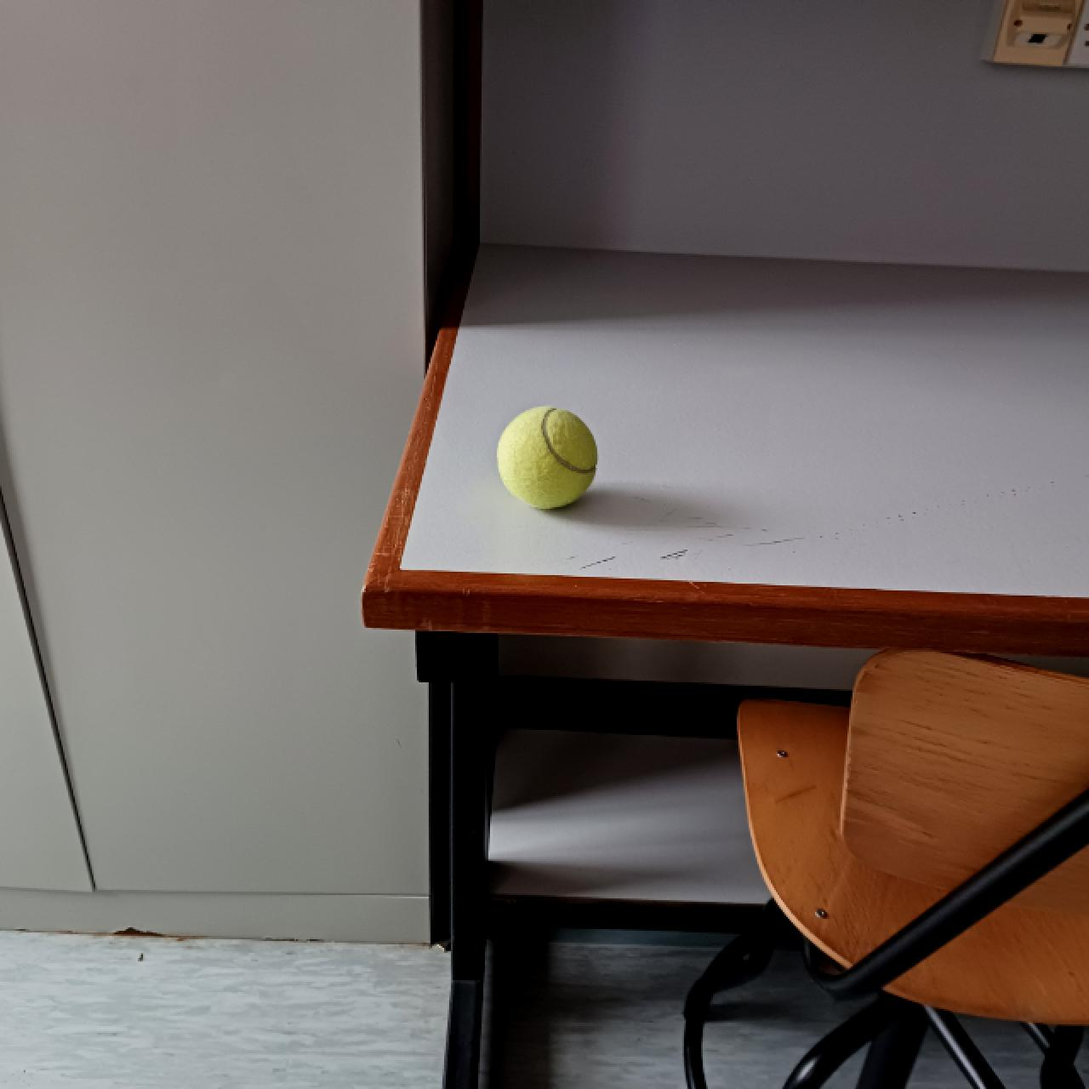tennis-ball: (496, 402, 599, 511)
